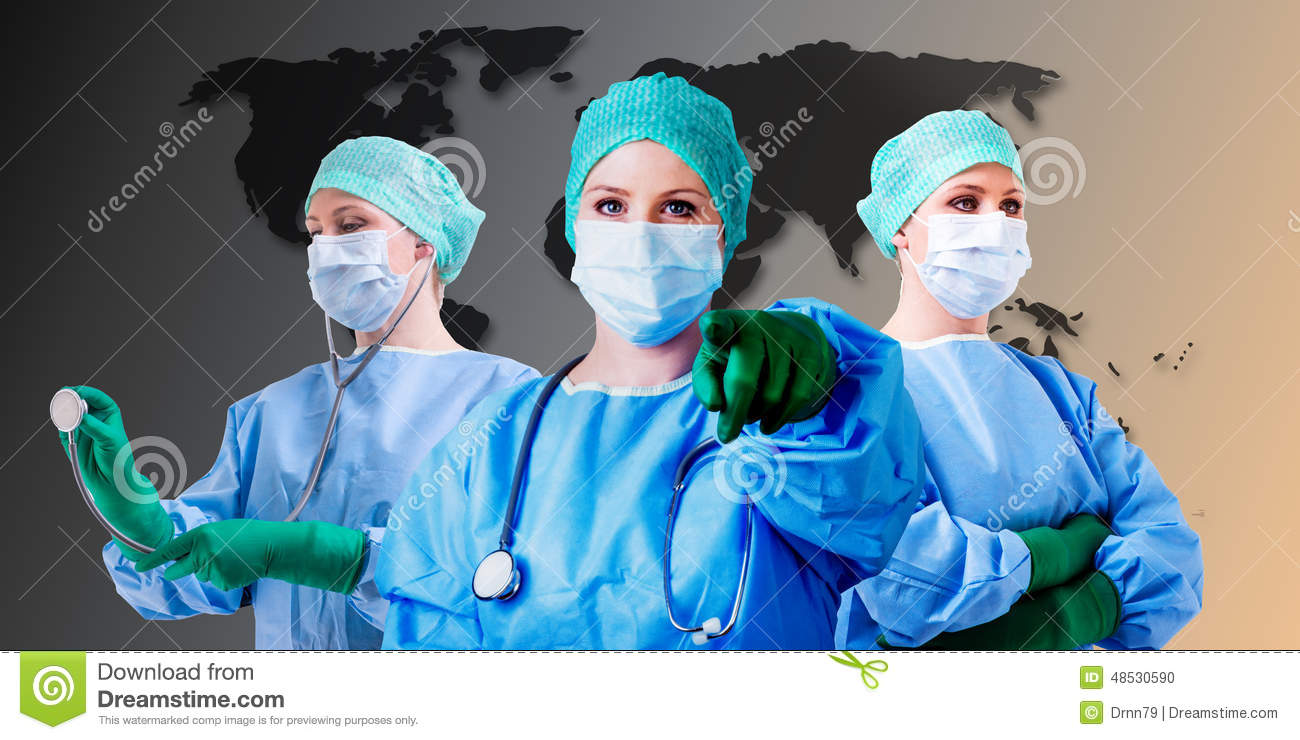mask: (573, 218, 723, 345), (918, 210, 1033, 317), (308, 233, 406, 333)
